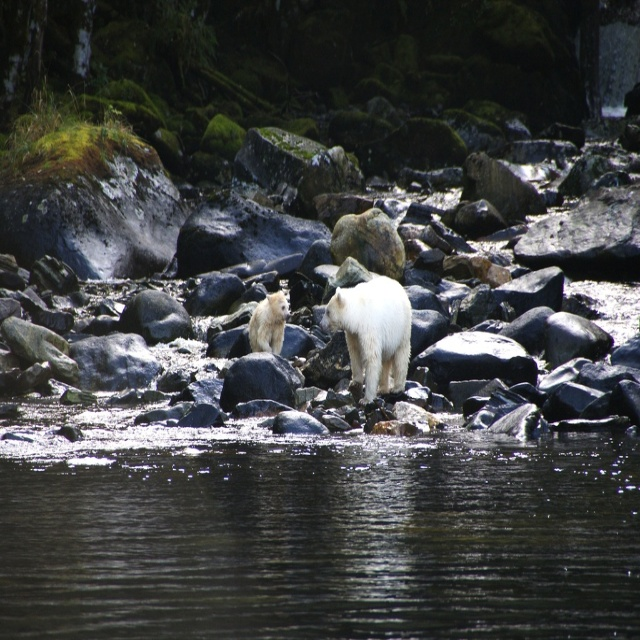Polar bear: (318, 274, 412, 404), (247, 289, 292, 358)
